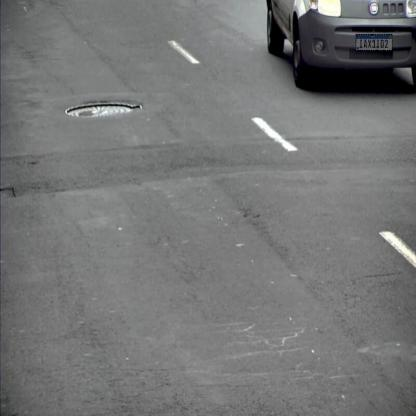PlacaM: (356, 34, 392, 51)
